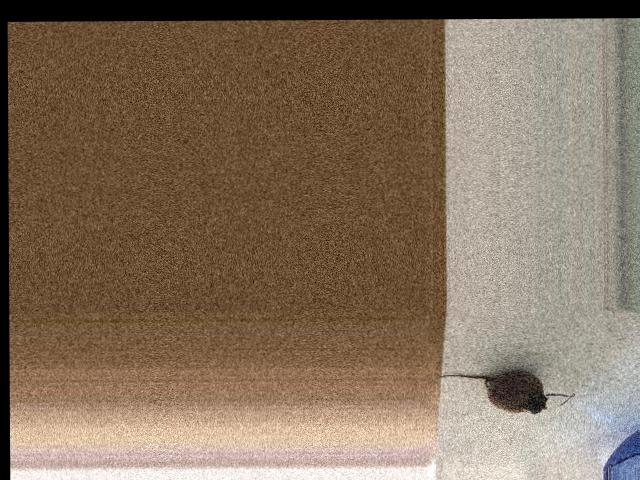beet: (436, 370, 574, 413)
